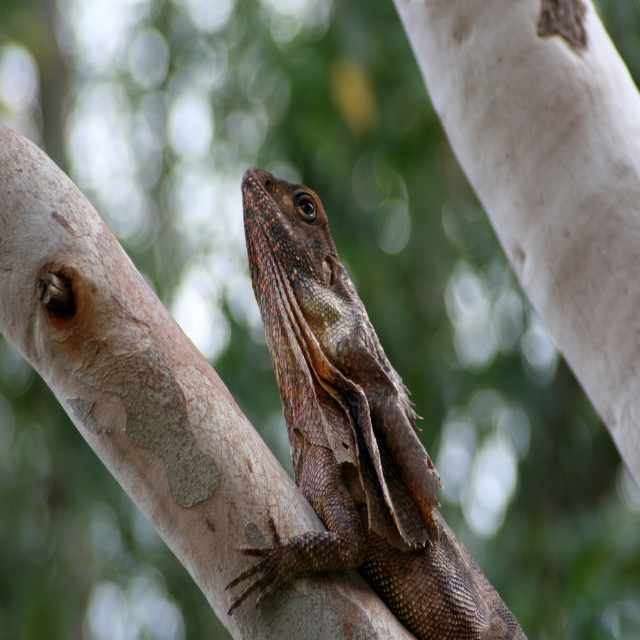Lizard: (223, 155, 525, 640)
